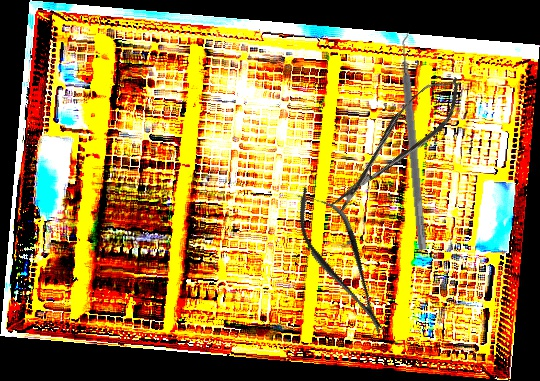Micro Scissor: (316, 66, 475, 222), (282, 175, 402, 347)
Spatula Surgical: (394, 28, 438, 251)
